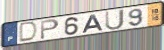6: (63, 16, 80, 36)
9: (127, 8, 146, 27)
A: (81, 13, 105, 34)
D: (18, 21, 39, 44)
P: (40, 18, 61, 41)
U: (105, 8, 126, 31)
